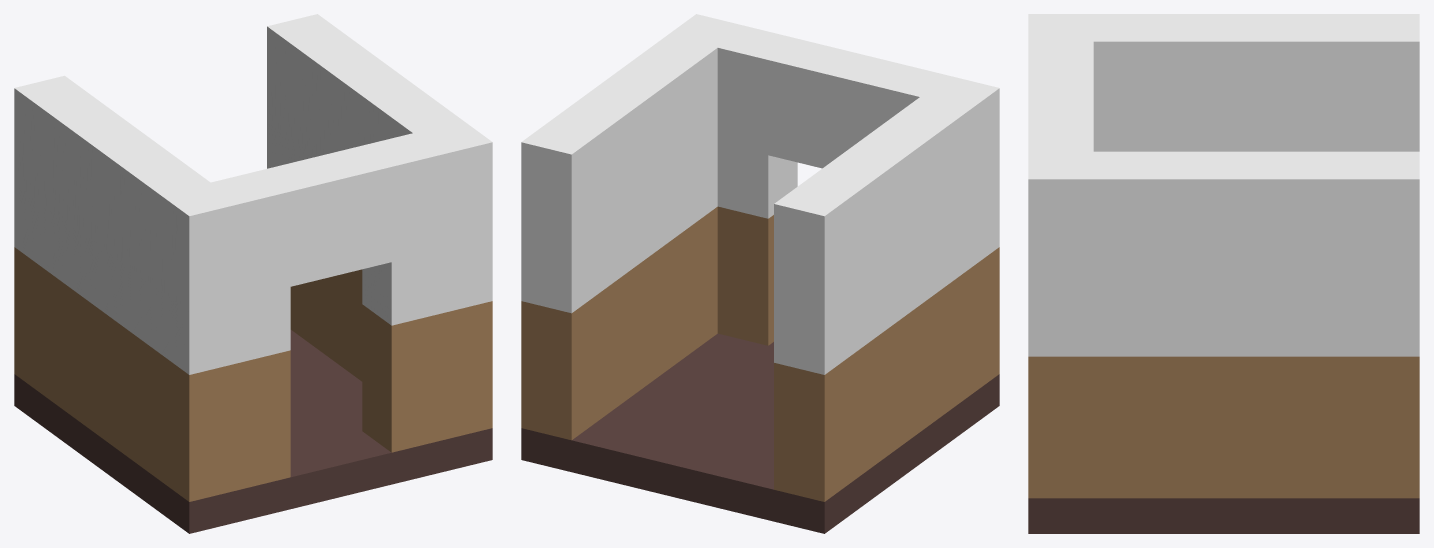
Rendered from corridor_door_end.FBX.
3 views of the same model, side by side, from view 1: azimuth 30°, elevation 25°; view 2: azimuth 150°, elevation 25°; view 3: azimuth 270°, elevation 25° (orthographic). The views are drawn at different scales.
Visible parts, largest first — view 1: Object087; view 2: Object087; view 3: Object087.
Part boxes in pixels (x1,y1,x2,y2): Object087: (14, 14, 492, 533); Object087: (521, 14, 999, 533); Object087: (1028, 14, 1419, 533).
Bounding box in the file's own units: 100 × 100 × 100.
